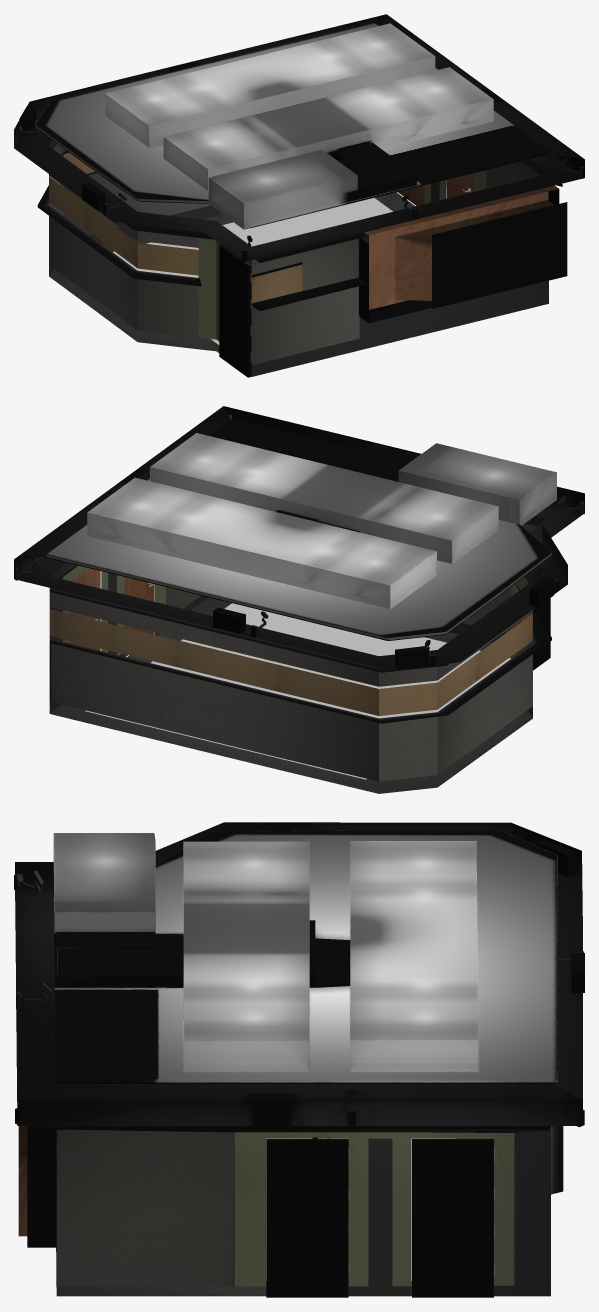
The model's file is vroom.obj.
3 renders of one model, top to bottom at view 1: azimuth 30°, elevation 25°; view 2: azimuth 150°, elevation 25°; view 3: azimuth 270°, elevation 25°, orthographic. The views are drawn at different scales.
Visible parts, largest first — view 1: Plane.002, Plane.001_Plane.017, Plane, Plane.014_Plane.005, Plane.004, Plane.016_Plane.019, Plane.015_Plane.018, Cube.003, Mesh.007_floor, Plane.003, Cube.020_Cube.021, Cube.015_Cube.016 (+1 smaller); view 2: Plane.002, Plane.015_Plane.018, Plane.001_Plane.017, Plane.016_Plane.019, Mesh.007_floor, Plane, Cube.020_Cube.021, Plane.003, Cube.015_Cube.016, Cube.005_Cube.004, Cube.003, Cube.006_Cube.005; view 3: Plane.002, Plane.016_Plane.019, Cube.005_Cube.004, Cube.006_Cube.005, Plane.003, Plane, Plane.015_Plane.018, Plane.001_Plane.017, Plane.004, Cube.020_Cube.021, Cube.015_Cube.016.
Boxes of the visible parts, x1,y1,x2,y2 form: Plane.002: [35, 22, 549, 229]; Plane.001_Plane.017: [14, 102, 251, 376]; Plane: [244, 156, 584, 376]; Plane.014_Plane.005: [432, 202, 567, 308]; Plane.004: [359, 185, 559, 323]; Plane.016_Plane.019: [374, 14, 584, 211]; Plane.015_Plane.018: [29, 14, 385, 251]; Cube.003: [219, 245, 250, 377]; Mesh.007_floor: [113, 198, 392, 344]; Plane.003: [334, 142, 548, 197]; Cube.020_Cube.021: [19, 62, 200, 210]; Cube.015_Cube.016: [19, 120, 583, 261]; Plane.002: [46, 418, 556, 640]; Plane.015_Plane.018: [14, 576, 391, 793]; Plane.001_Plane.017: [366, 513, 582, 793]; Plane.016_Plane.019: [14, 406, 231, 713]; Mesh.007_floor: [85, 603, 510, 779]; Plane: [223, 406, 584, 657]; Cube.020_Cube.021: [213, 577, 554, 669]; Plane.003: [236, 419, 419, 532]; Cube.015_Cube.016: [14, 414, 584, 666]; Cube.005_Cube.004: [124, 577, 154, 656]; Cube.003: [533, 598, 550, 670]; Cube.006_Cube.005: [70, 568, 100, 650]; Plane.002: [53, 830, 557, 1083]; Plane.016_Plane.019: [17, 1084, 582, 1296]; Cube.005_Cube.004: [266, 1139, 348, 1297]; Cube.006_Cube.005: [412, 1139, 493, 1297]; Plane.003: [55, 920, 350, 1082]; Plane: [15, 890, 75, 1295]; Plane.015_Plane.018: [551, 864, 582, 1194]; Plane.001_Plane.017: [15, 822, 581, 902]; Plane.004: [18, 1126, 56, 1247]; Cube.020_Cube.021: [265, 825, 584, 992]; Cube.015_Cube.016: [14, 870, 584, 1127].
Bounding box in the file's own units: 9.88 × 4.14 × 8.54.
